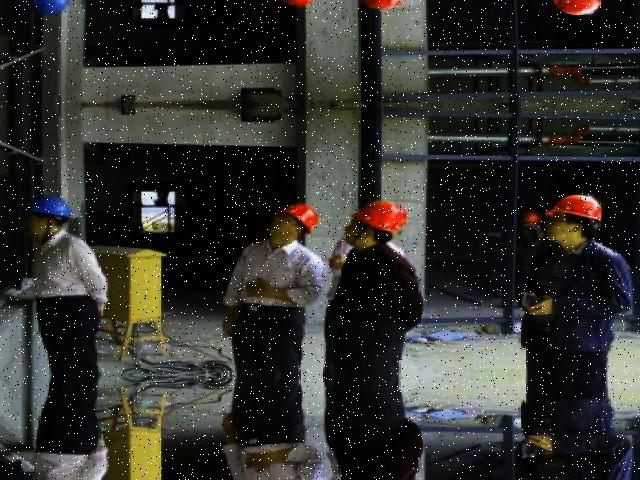Helmet: (350, 192, 410, 240), (540, 191, 605, 226), (13, 190, 75, 225), (268, 201, 324, 232)
